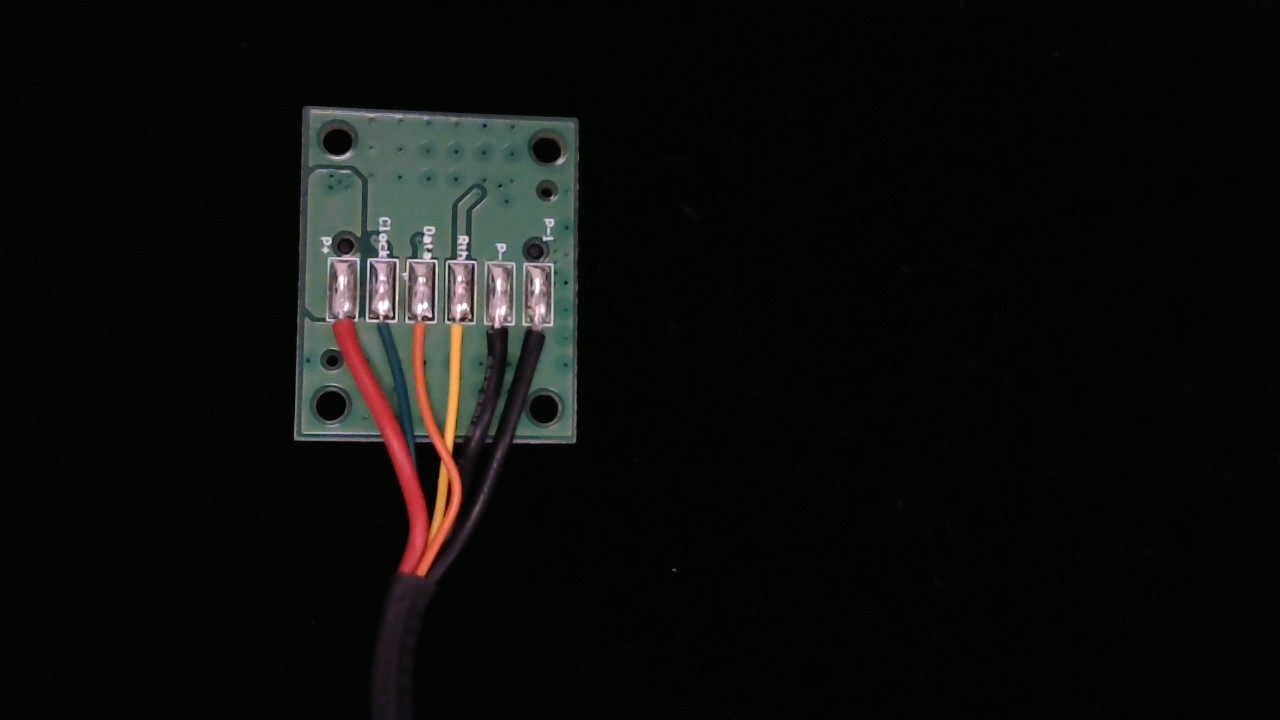Black: (489, 304, 522, 373)
Black1: (529, 306, 563, 378)
Green: (373, 301, 405, 369)
Orange: (409, 302, 441, 373)
Red: (332, 301, 365, 369)
Yellow: (452, 303, 480, 368)
